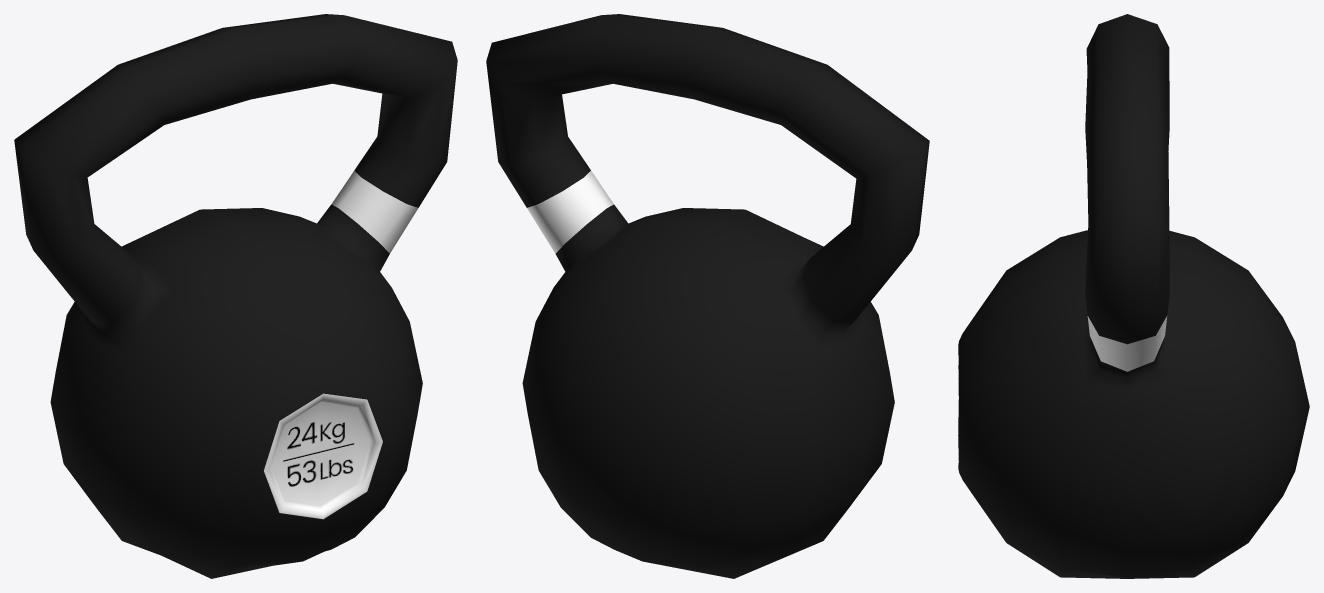
Rendered from kettlebell.glb.
3 renders of one model, left to right at view 1: azimuth 30°, elevation 25°; view 2: azimuth 150°, elevation 25°; view 3: azimuth 270°, elevation 25°, orthographic. The views are drawn at different scales.
Parts seen in each view (by area): view 1: CFX_KettleBell24.001; view 2: CFX_KettleBell24.001; view 3: CFX_KettleBell24.001.
Boxes of the visible parts, bbox=[...] form: CFX_KettleBell24.001: bbox=[14, 14, 457, 578]; CFX_KettleBell24.001: bbox=[486, 14, 929, 578]; CFX_KettleBell24.001: bbox=[958, 14, 1309, 578].
Size of the model in its own units: 1.78 by 2.01 by 1.29.
2 materials, 1 textured.
